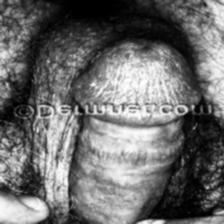Non-Cancerous Skin Condition: (8, 122, 207, 224), (10, 14, 224, 96)
